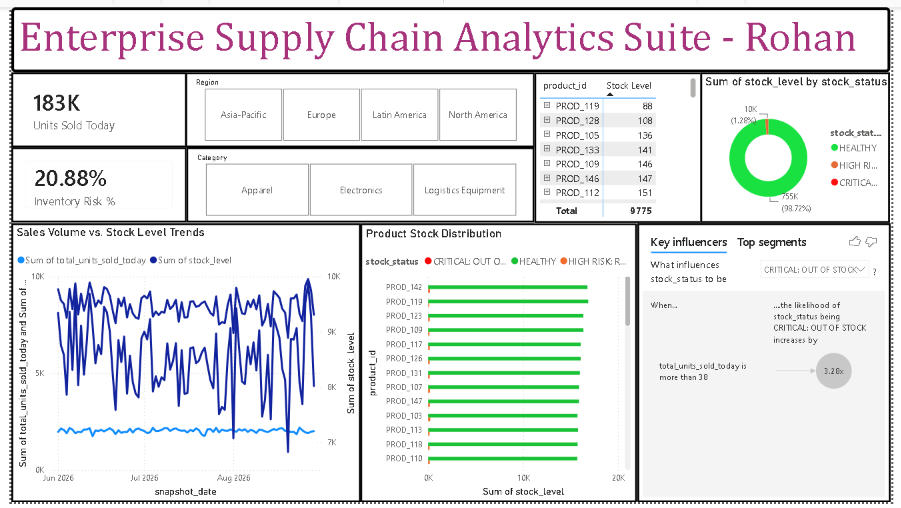

What the dashboard file says about the page in this screenshot:
{"tool":"powerbi","page":{"name":"Page 1","canvas":[1280,720],"ordinal":0},"visuals":[{"type":"cardVisual","fields":{"Data":["01_Data_Generation (1).Inventory_Risk_Percentage"]},"box":[0,204.1,255.1,109.6],"z":0},{"type":"cardVisual","fields":{"Data":["Sum(01_Data_Generation (1).total_units_sold_today)"]},"box":[0,94.5,255.1,109.6],"z":1},{"type":"clusteredBarChart","title":"Product Stock Distribution","fields":{"Category":["01_Data_Generation (1).product_id"],"Series":["01_Data_Generation (1).stock_status"],"Y":["Sum(01_Data_Generation (1).stock_level)"]},"box":[508.4,313.7,402.5,406.3],"z":2},{"type":"lineChart","title":"Sales Volume vs. Stock Level Trends","fields":{"Category":["01_Data_Generation (1).snapshot_date"],"Y":["Sum(01_Data_Generation (1).total_units_sold_today)","Sum(01_Data_Generation (1).stock_level)"],"Y2":["Sum(01_Data_Generation (1).stock_level)"]},"box":[0,313.7,508.4,406.3],"z":3},{"type":"textbox","title":" Enterprise Supply Chain Analytics Suite - Rohan","box":[0,0,1279.4,94.5],"z":4},{"type":"slicer","fields":{"Values":["01_Data_Generation (1).Region"]},"box":[253.2,94.5,508.4,109.6],"z":5},{"type":"slicer","fields":{"Values":["01_Data_Generation (1).Category"]},"box":[255.1,204.1,506.5,109.6],"z":6},{"type":"pivotTable","fields":{"Rows":["01_Data_Generation (1).product_id","01_Data_Generation (1).stock_status"],"Values":["Sum(01_Data_Generation (1).stock_level)"]},"box":[761.6,94.5,243.8,219.2],"z":7},{"type":"donutChart","fields":{"Category":["01_Data_Generation (1).stock_status"],"Y":["Sum(01_Data_Generation (1).stock_level)"]},"box":[1003.5,94.5,275.9,219.2],"z":8},{"type":"keyDriversVisual","fields":{"ExplainBy":["01_Data_Generation (1).Category","01_Data_Generation (1).Region","01_Data_Generation (1).total_units_sold_today"],"Target":["01_Data_Generation (1).stock_status"]},"box":[910.9,313.7,368.5,406.3],"z":9}]}

Visuals, with their boxes in screenshot pixels (x1, y1, x2, y2), scaled from the page's 1280x720 canvas onto the 901x508 screenshot:
cardVisual - 01_Data_Generation (1).Inventory_Risk_Percentage: <region>0, 144, 180, 221</region>
cardVisual - Sum(01_Data_Generation (1).total_units_sold_today): <region>0, 67, 180, 144</region>
"Product Stock Distribution" clusteredBarChart: <region>358, 221, 641, 507</region>
"Sales Volume vs. Stock Level Trends" lineChart: <region>0, 221, 358, 507</region>
" Enterprise Supply Chain Analytics Suite - Rohan" textbox: <region>0, 0, 900, 67</region>
slicer - 01_Data_Generation (1).Region: <region>178, 67, 536, 144</region>
slicer - 01_Data_Generation (1).Category: <region>180, 144, 536, 221</region>
pivotTable - 01_Data_Generation (1).product_id x 01_Data_Generation (1).stock_status: <region>536, 67, 708, 221</region>
donutChart - 01_Data_Generation (1).stock_status x Sum(01_Data_Generation (1).stock_level): <region>706, 67, 900, 221</region>
keyDriversVisual - 01_Data_Generation (1).Category x 01_Data_Generation (1).Region: <region>641, 221, 900, 507</region>
